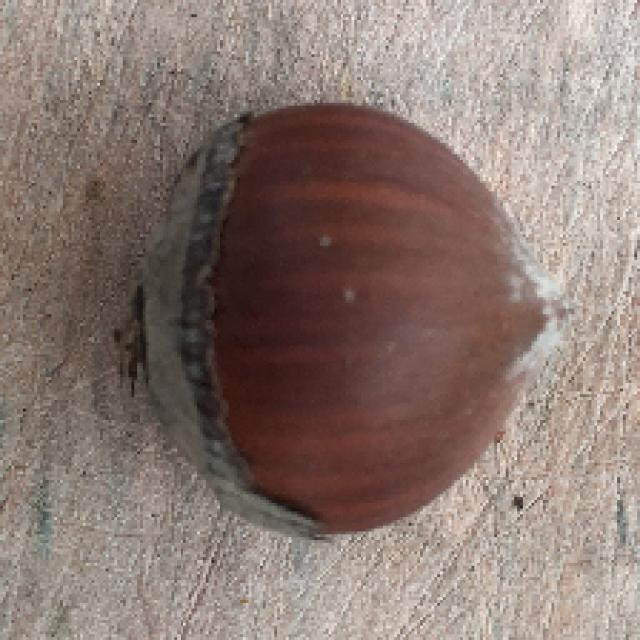damagedHazelnut: (108, 93, 575, 550)
